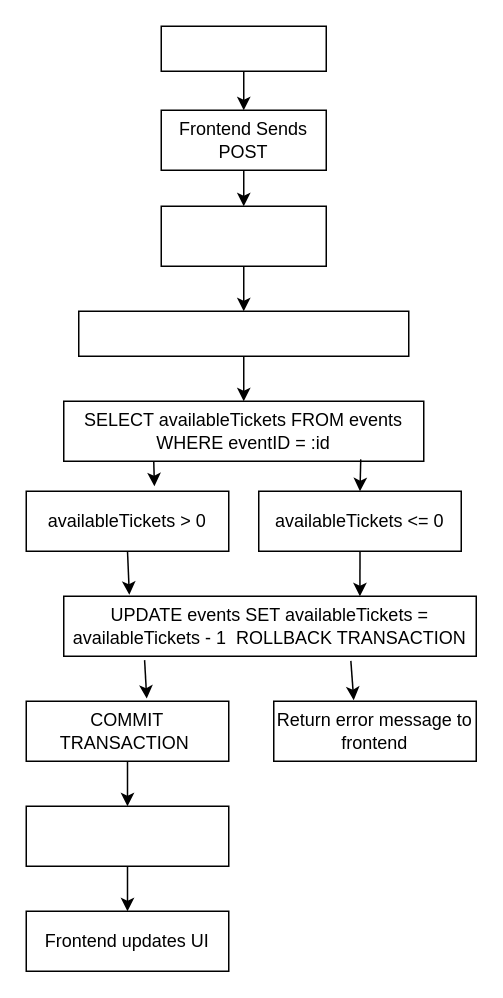
This 503x998 diagram has some shape labels left out. Here are the shapes that lost their labels. From the top down, the box of each, then its label:
(160, 25, 326, 71): Buy Ticket Clicked
(160, 205, 326, 266): Client Receives Request
(77, 310, 409, 356): BEGIN TRANSACTION in SQLite
(25, 805, 229, 866): Return success message to frontend
